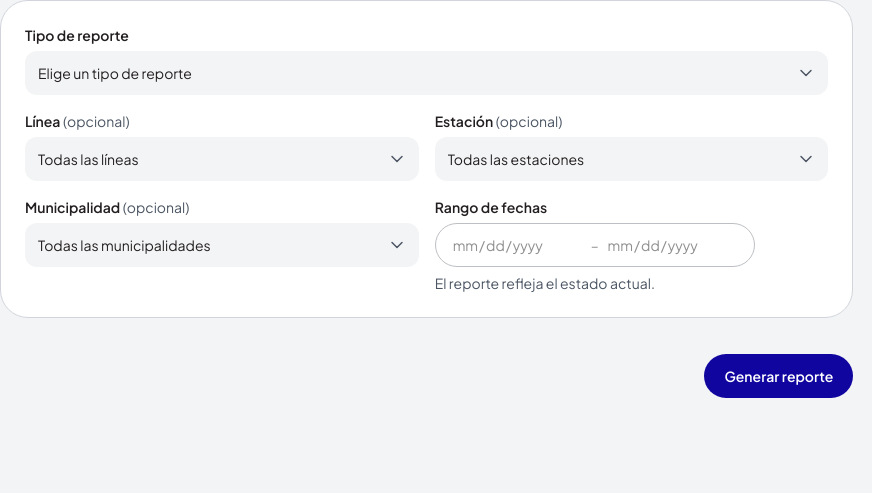
Test: FormularioDeReporte › muestra el error del backend tal cual
Step 1. Select "Líneas" in the dropdown labelled "Tipo de reporte" → point(427, 73), box [25, 51, 828, 95]
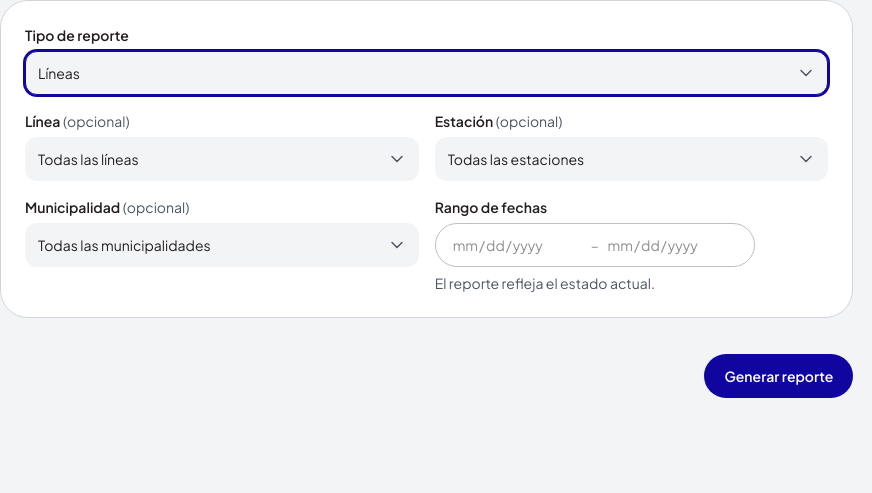
Step 2. Click the button "Generar reporte" → point(779, 376), box [704, 354, 853, 398]
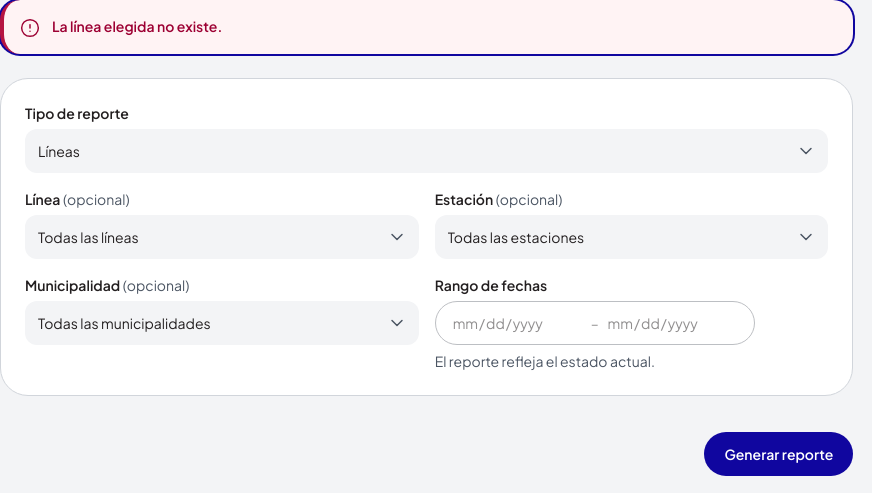
Expected: the message reads "La línea elegida no existe.", [52, 17, 222, 35]
